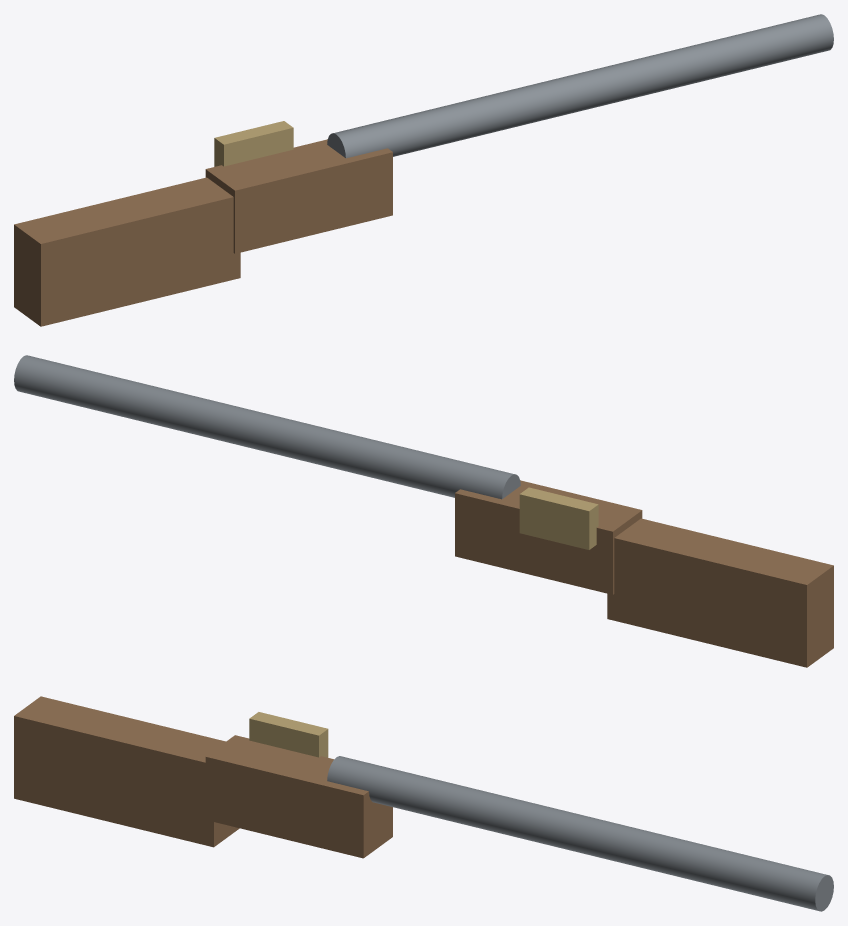
Rendered from flintlock_musket.glb.
3 renders of one model, top to bottom at view 1: azimuth 30°, elevation 25°; view 2: azimuth 150°, elevation 25°; view 3: azimuth 330°, elevation 25°, orthographic.
Parts seen in each view (by area): view 1: world; view 2: world; view 3: world.
Part boxes in pixels (x1=…): world: x1=14, y1=14, x2=833, y2=326; world: x1=14, y1=355, x2=833, y2=667; world: x1=14, y1=696, x2=833, y2=911.
Bounding box in the file's own units: 1.71 × 0.23 × 0.1375.
